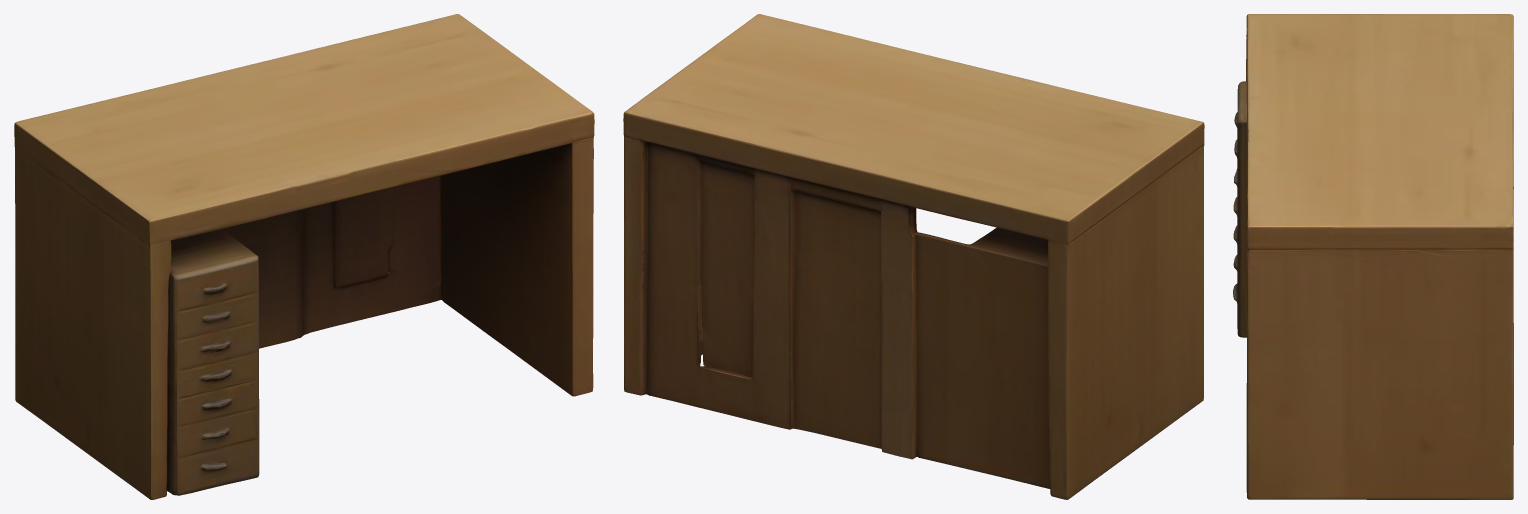
The model's file is desk_plain.glb.
3 renders of one model, left to right at view 1: azimuth 30°, elevation 25°; view 2: azimuth 150°, elevation 25°; view 3: azimuth 270°, elevation 25°, orthographic. The views are drawn at different scales.
Visible parts, largest first — view 1: geometry_0; view 2: geometry_0; view 3: geometry_0.
Part boxes in pixels (left/top/right/bottom): geometry_0: left=14, top=14, right=594, bottom=499; geometry_0: left=623, top=14, right=1204, bottom=499; geometry_0: left=1233, top=14, right=1513, bottom=499.
Size of the model in its own units: 0.9994 by 0.5999 by 0.5556.
Materials: 1 (1 with a texture image).
